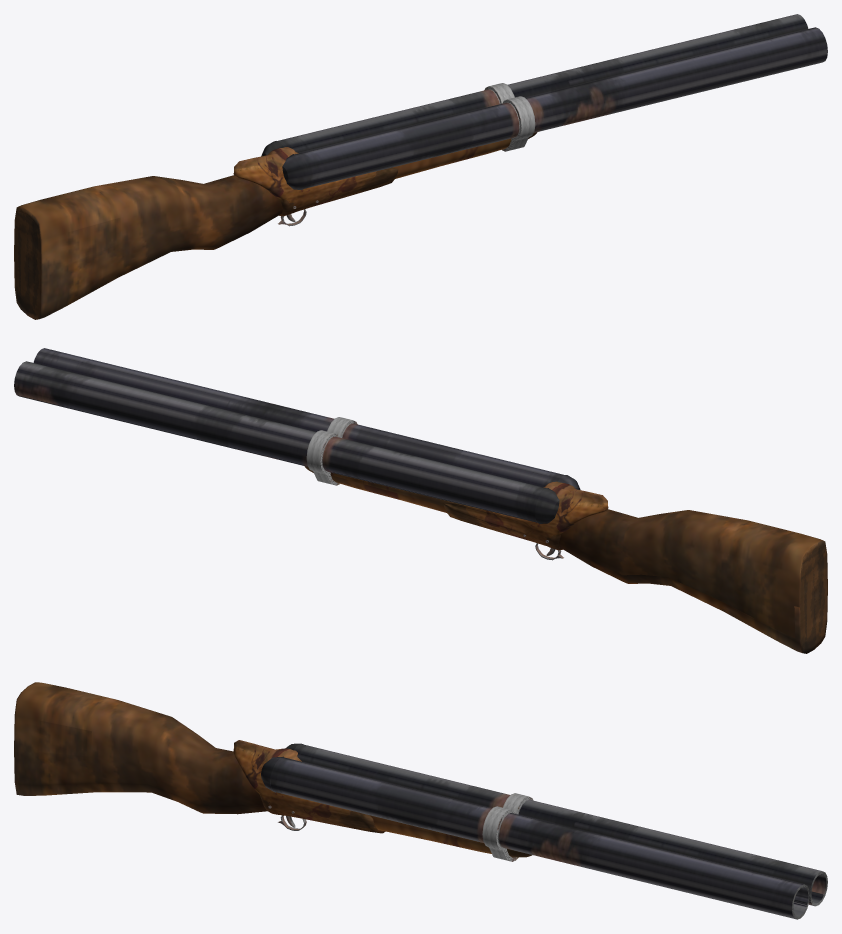
Rendered from shotgun1Model.fbx.
The picture shows the model from 3 angles, top to bottom: view 1: azimuth 30°, elevation 25°; view 2: azimuth 150°, elevation 25°; view 3: azimuth 330°, elevation 25°; orthographic projection.
Visible parts, largest first — view 1: shotgunModel; view 2: shotgunModel; view 3: shotgunModel.
Part boxes in pixels (box(x1,y1,x2,y2)): shotgunModel: box(14, 14, 827, 319); shotgunModel: box(14, 348, 827, 653); shotgunModel: box(14, 682, 827, 919).
Size of the model in its own units: 75 by 9.82 by 6.5.
1 material, 1 textured.
